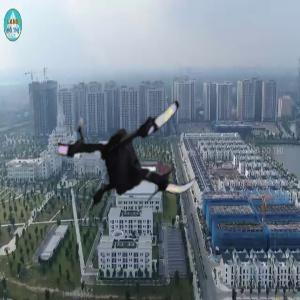drone: (44, 79, 204, 239)
